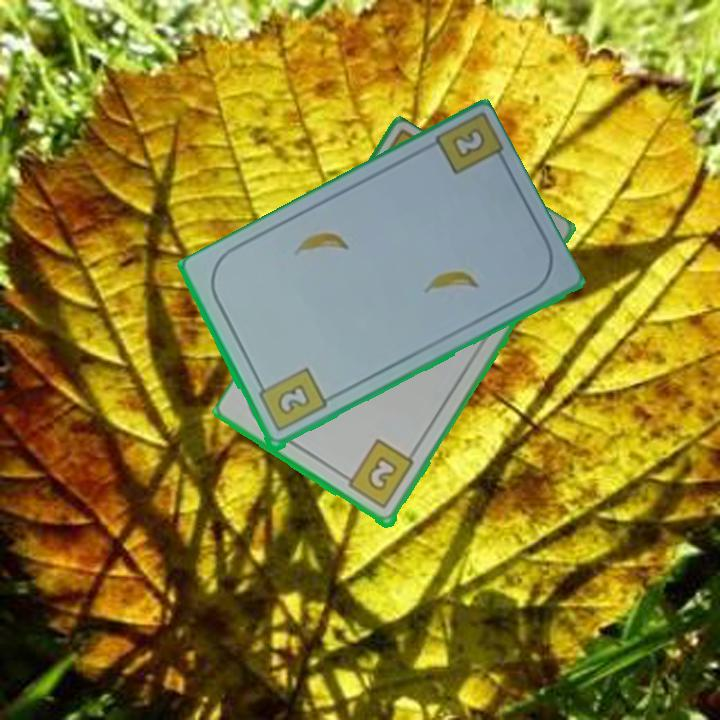2b: (338, 436, 417, 512), (428, 111, 509, 179), (254, 365, 329, 435)
